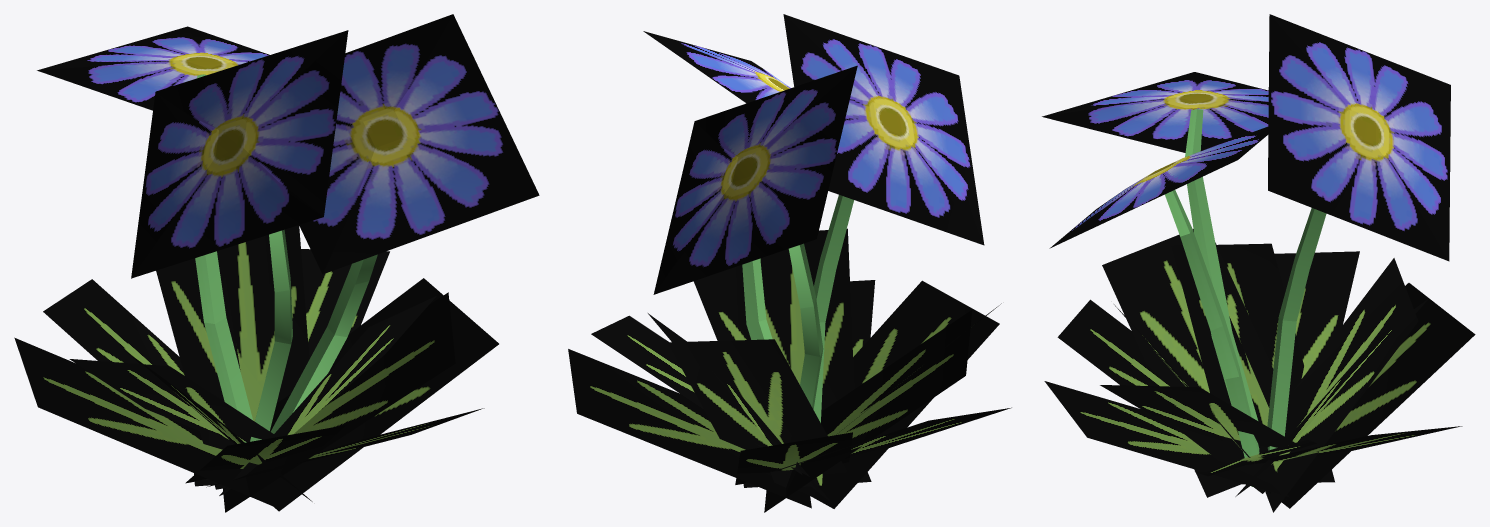
File: RiverDaisy_Hand.fbx
The picture shows the model from 3 angles, left to right: view 1: azimuth 30°, elevation 25°; view 2: azimuth 150°, elevation 25°; view 3: azimuth 270°, elevation 25°; orthographic projection. The views are drawn at different scales.
Parts seen in each view (by area): view 1: Leaves (1), Leaves (3), Leaves (2); view 2: Leaves (2), Leaves (1), Leaves (3); view 3: Leaves (2), Leaves (3), Leaves (1).
Part boxes in pixels (left/top/right/bottom): Leaves (1): left=14, top=30, right=455, bottom=512; Leaves (3): left=123, top=14, right=539, bottom=511; Leaves (2): left=37, top=26, right=436, bottom=495; Leaves (2): left=568, top=65, right=972, bottom=512; Leaves (1): left=648, top=14, right=1011, bottom=508; Leaves (3): left=591, top=31, right=1001, bottom=487; Leaves (2): left=1114, top=14, right=1475, bottom=508; Leaves (3): left=1044, top=126, right=1418, bottom=512; Leaves (1): left=1042, top=72, right=1428, bottom=496.
Size of the model in its own units: 1.32 by 1.38 by 1.22.
